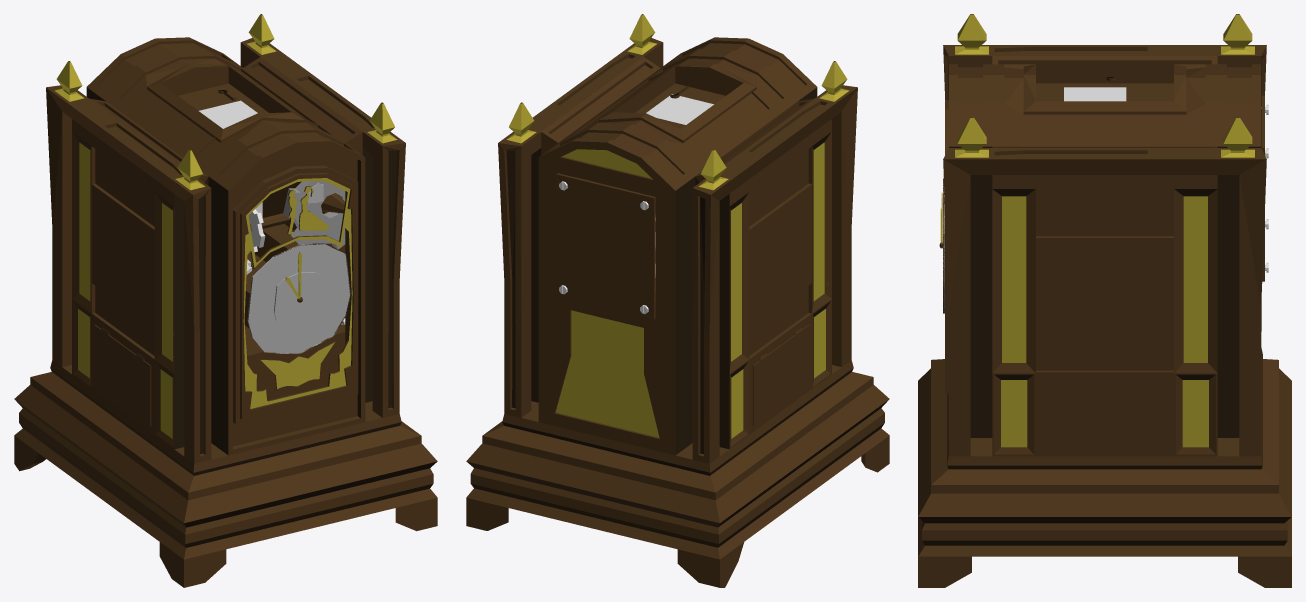
File: large_clock.fbx
3 renders of one model, left to right at view 1: azimuth 30°, elevation 25°; view 2: azimuth 150°, elevation 25°; view 3: azimuth 270°, elevation 25°, orthographic. The views are drawn at different scales.
Visible parts, largest first — view 1: BASE, dial, hatch_side, wheel.001, picture; view 2: BASE, hatch_back, hatch_side, picture; view 3: BASE, dial, picture.
Boxes of the visible parts, x1,y1,x2,y2 form: BASE: (14, 14, 437, 587); dial: (240, 173, 355, 419); hatch_side: (94, 325, 151, 426); wheel.001: (283, 181, 345, 249); picture: (199, 100, 257, 128); BASE: (466, 14, 889, 587); hatch_back: (556, 173, 655, 319); hatch_side: (752, 324, 809, 426); picture: (646, 94, 713, 124); BASE: (918, 14, 1291, 587); dial: (939, 100, 948, 393); picture: (1064, 87, 1126, 101).
Size of the model in its own units: 247 by 387 by 286.
